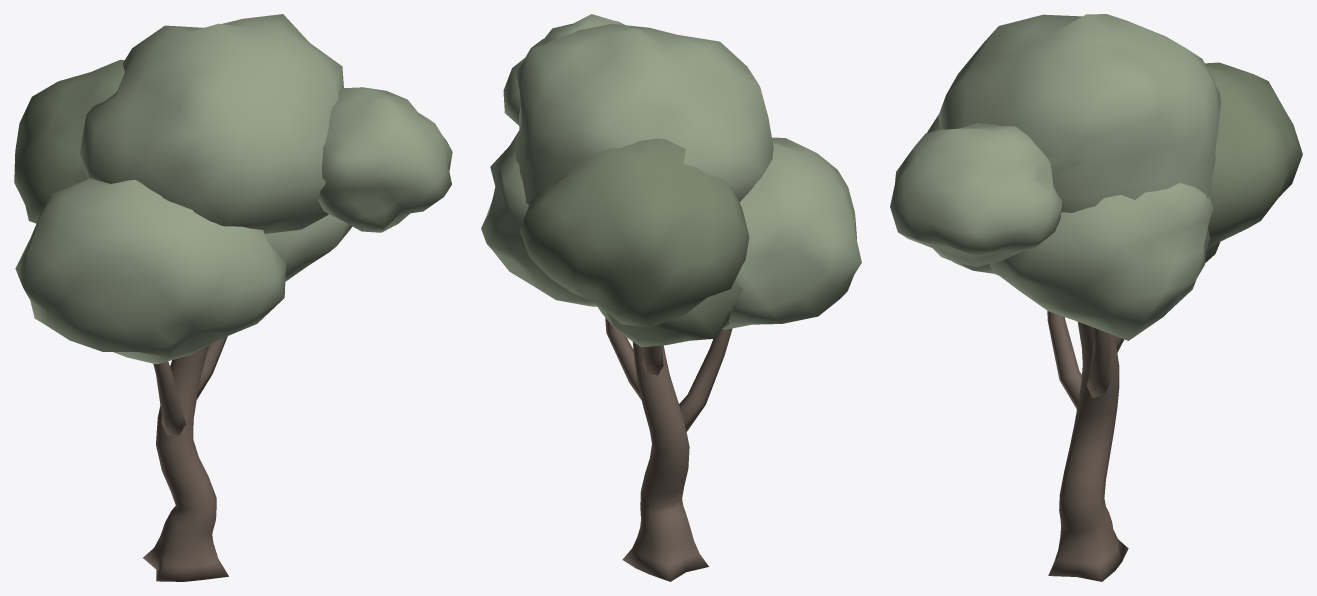
The model's file is tree_lush_a.glb.
3 views of the same model, side by side, from view 1: azimuth 30°, elevation 25°; view 2: azimuth 150°, elevation 25°; view 3: azimuth 270°, elevation 25° (orthographic). The views are drawn at different scales.
Parts seen in each view (by area): view 1: Body; view 2: Body; view 3: Body.
Part boxes in pixels (x1,y1,x2,y2): Body: [14, 14, 452, 581]; Body: [481, 14, 861, 581]; Body: [890, 14, 1302, 581].
Bounding box in the file's own units: 6.9 × 9.11 × 6.03.
